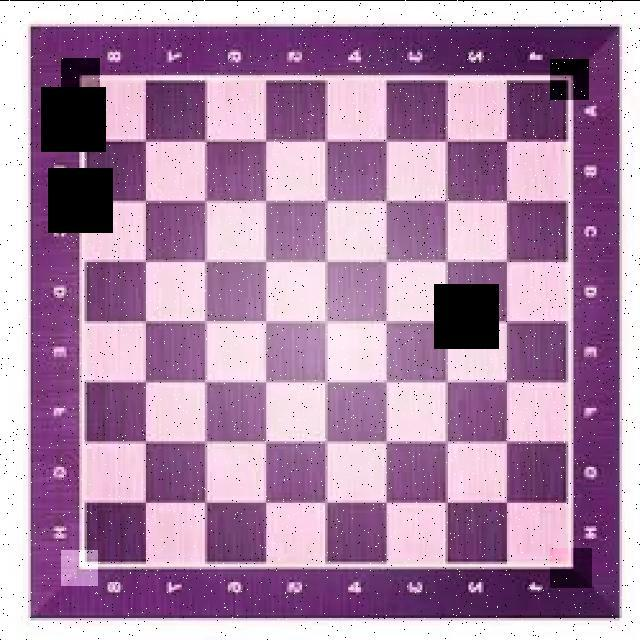chess-table-corners: (550, 547, 592, 587), (550, 58, 589, 99), (61, 57, 100, 95), (61, 549, 98, 585)
